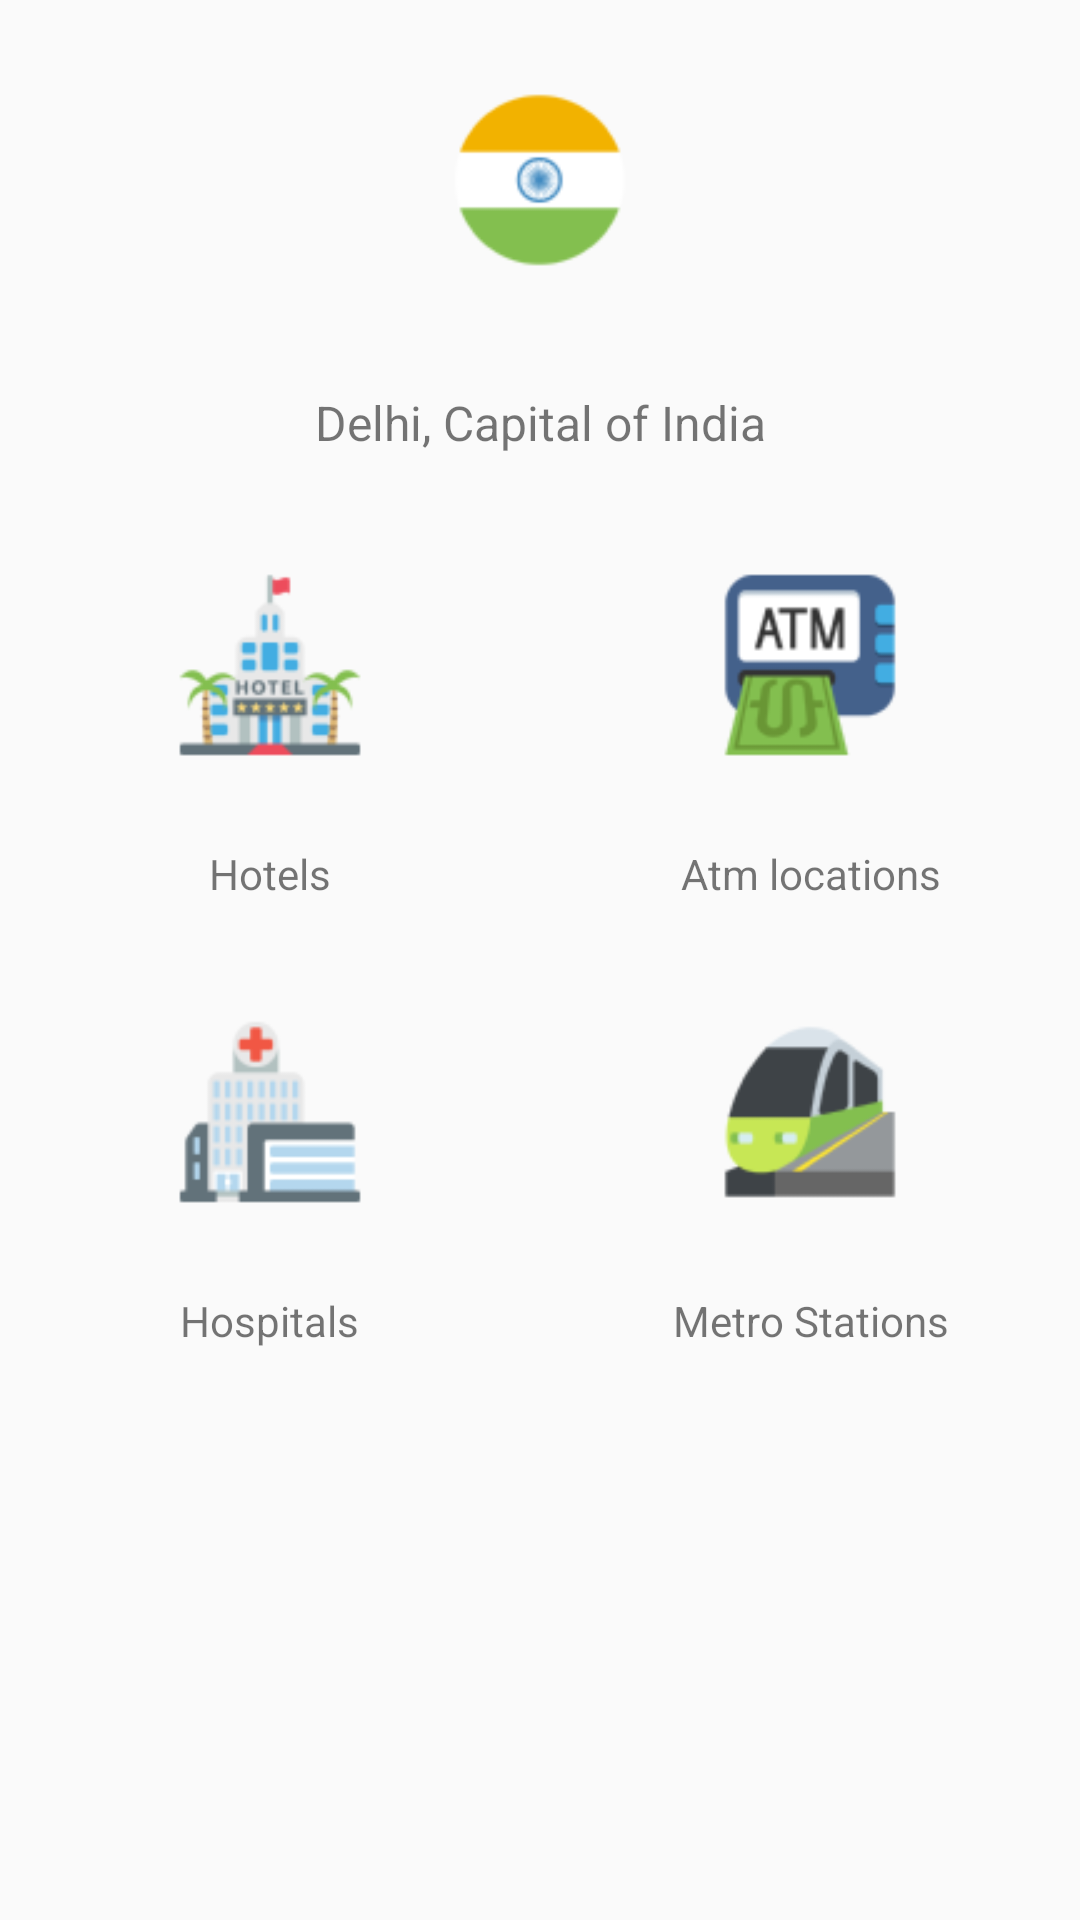

Icons on this 1080x1920 Android screen, each with the point to tap as (x,y):
india flag: (540,180)
